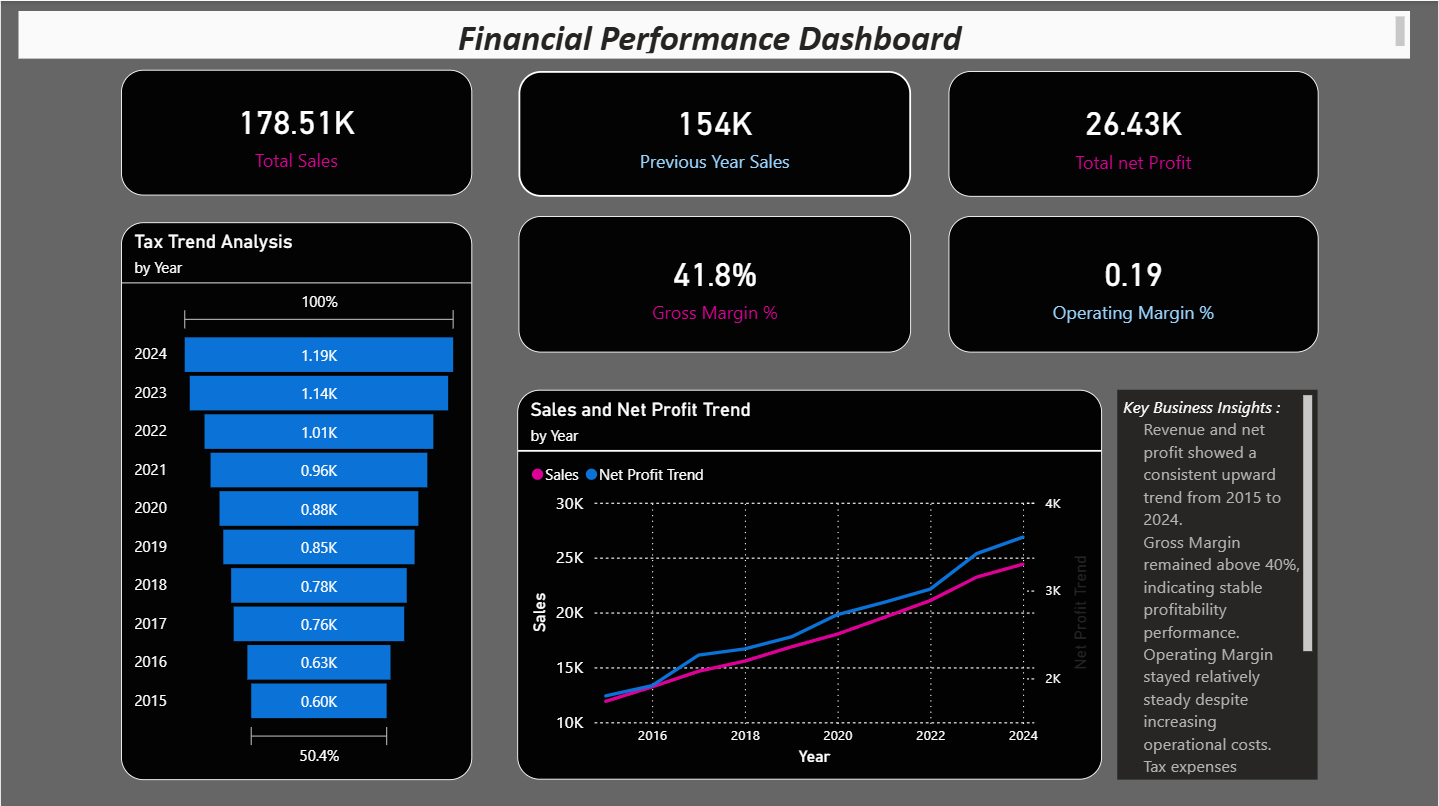

The dashboard page shown, as its layout file describes it:
{"tool":"powerbi","page":{"name":"Overview","canvas":[1280,720],"ordinal":0},"visuals":[{"type":"card","fields":{"Values":["Sheet1.Total Sales"]},"box":[107.4,61.5,312.5,112.2],"z":0},{"type":"card","fields":{"Values":["Sheet1.Total net Profit"]},"box":[843.3,62.7,329.4,112.2],"z":1000},{"type":"card","fields":{"Values":["Sheet1.Gross Margin %"]},"box":[460.9,191.8,349.9,121.9],"z":2000},{"type":"card","fields":{"Values":["Sheet1.Operating Margin %"]},"box":[843.3,191.8,329.4,121.9],"z":3000},{"type":"card","fields":{"Values":["Sheet1.Previous Year Sales"]},"box":[460.9,62.7,349.9,112.2],"z":4000},{"type":"lineChart","fields":{"Category":["Sheet1.Week_Ending.Variation.Date Hierarchy.Year"],"Y2":["Sum(Sheet1.Net_Profit_INR_Cr)"],"Y":["Sum(Sheet1.Sales_INR_Cr)"]},"box":[459.7,346.2,521.2,347.5],"z":5000},{"type":"funnel","fields":{"Y":["Sum(Sheet1.Tax_INR_Cr)"],"Category":["Sheet1.Year"]},"box":[106.9,197,312.8,496.5],"z":10000},{"type":"textbox","box":[15.7,8.4,1239,42.2],"z":12000},{"type":"textbox","box":[994.1,346.2,178.6,347.5],"z":12001}]}

Visuals, with their boxes in screenshot pixels (x1, y1, x2, y2), scaled from the page's 1280x720 canvas onto the 1439x806 screenshot:
card - Sheet1.Total Sales: box=[121, 69, 472, 194]
card - Sheet1.Total net Profit: box=[948, 70, 1318, 196]
card - Sheet1.Gross Margin %: box=[518, 215, 912, 351]
card - Sheet1.Operating Margin %: box=[948, 215, 1318, 351]
card - Sheet1.Previous Year Sales: box=[518, 70, 912, 196]
lineChart - Sheet1.Week_Ending.Variation.Date Hierarchy.Year x Sum(Sheet1.Net_Profit_INR_Cr): box=[517, 388, 1103, 777]
funnel - Sum(Sheet1.Tax_INR_Cr) x Sheet1.Year: box=[120, 221, 472, 776]
textbox: box=[18, 9, 1411, 57]
textbox: box=[1118, 388, 1318, 777]
